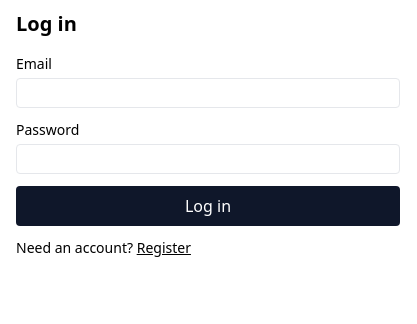
Test: LoginPage — failed-login messaging (Step 7A remediation, finding M-3) › shows 'Incorrect email or password' for a failed login, not the generic session-expired copy
The width and height of the screenshot is (417, 324).
Step 1. Type "someone@example.com" into the field labelled "Email" → {"x": 208, "y": 93}, box 16,78 -> 400,108
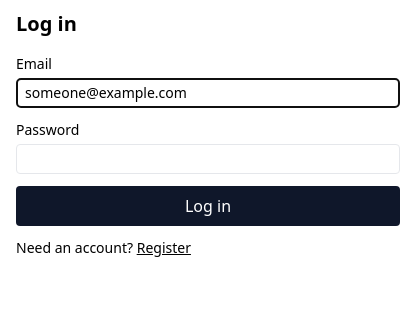
Step 2. Type "wrong-password" into the password field labelled "Password" → {"x": 208, "y": 159}, box 16,144 -> 400,174
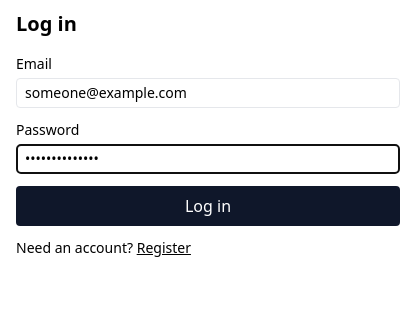
Step 3. Click the button "Log in" → {"x": 208, "y": 206}, box 16,186 -> 400,226
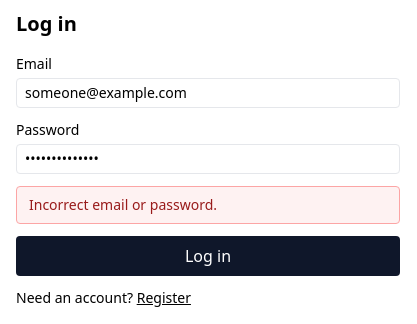
expect the message shows "Incorrect email or password": met, box 29,195 -> 217,214
